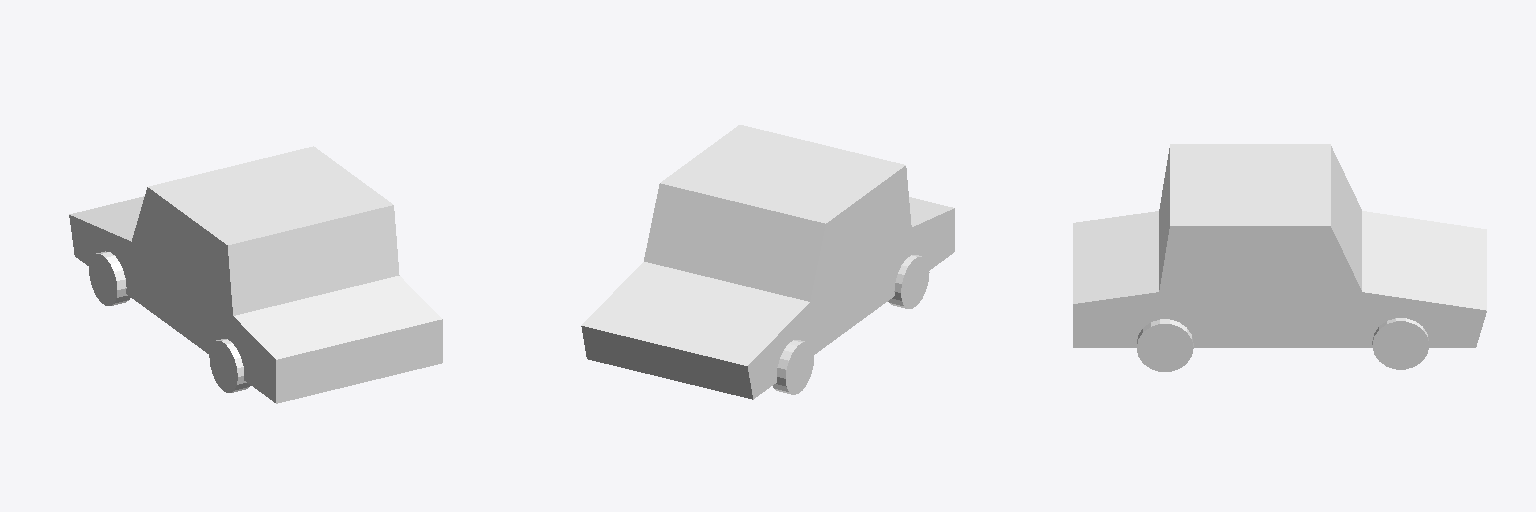
The model's file is car.obj.
3 renders of one model, left to right at view 1: azimuth 30°, elevation 25°; view 2: azimuth 150°, elevation 25°; view 3: azimuth 270°, elevation 25°, orthographic.
Parts seen in each view (by area): view 1: Car_06 메시; view 2: Car_06 메시; view 3: Car_06 메시.
Part boxes in pixels (bbox=[...]): Car_06 메시: bbox=[69, 146, 442, 403]; Car_06 메시: bbox=[581, 125, 954, 399]; Car_06 메시: bbox=[1073, 144, 1486, 371].
Bounding box in the file's own units: 2.85 × 2.09 × 5.54.